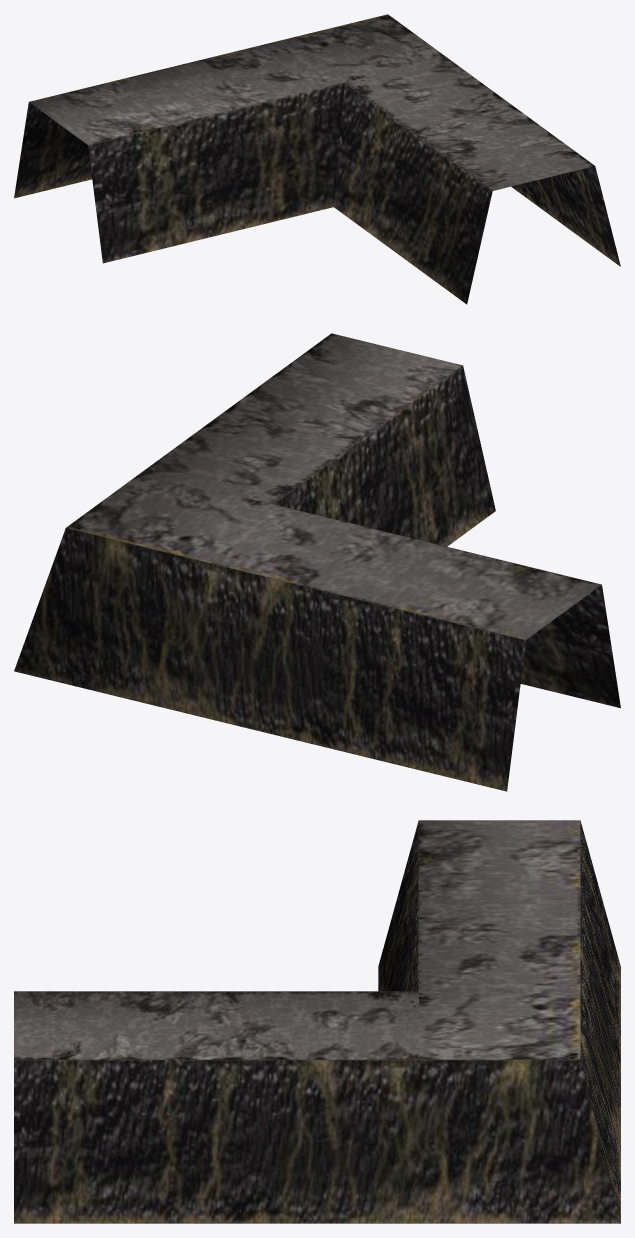
Rendered from TarBermCorner.fbx.
The picture shows the model from 3 angles, top to bottom: view 1: azimuth 30°, elevation 25°; view 2: azimuth 150°, elevation 25°; view 3: azimuth 270°, elevation 25°; orthographic projection. The views are drawn at different scales.
Visible parts, largest first — view 1: berm_corner; view 2: berm_corner; view 3: berm_corner.
Boxes of the visible parts, box(x1,y1,x2,y2) form: berm_corner: box(14, 14, 620, 304); berm_corner: box(14, 333, 620, 791); berm_corner: box(14, 820, 620, 1223).
Bounding box in the file's own units: 750 × 200 × 750.
